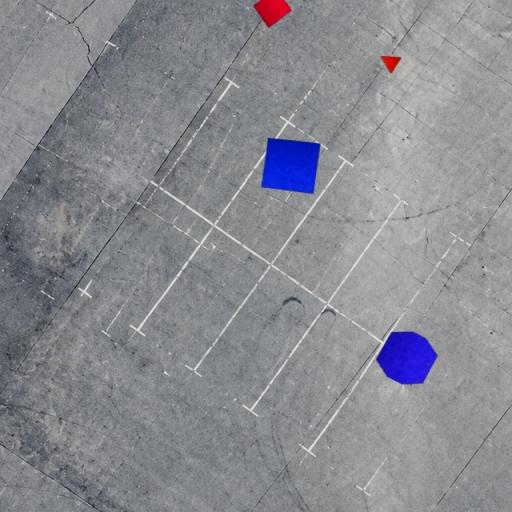BLUE_SQUARE: (261, 137, 321, 194)
RED_SQUARE: (253, 0, 292, 29)
